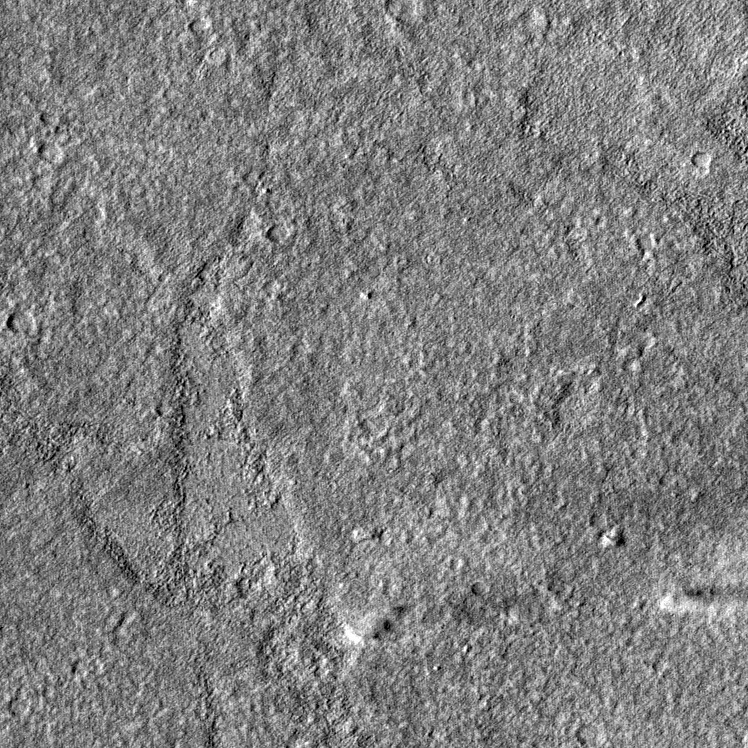dust_devil: (657, 580, 748, 621)
